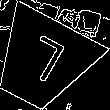L_SW: (15, 32, 69, 91)
